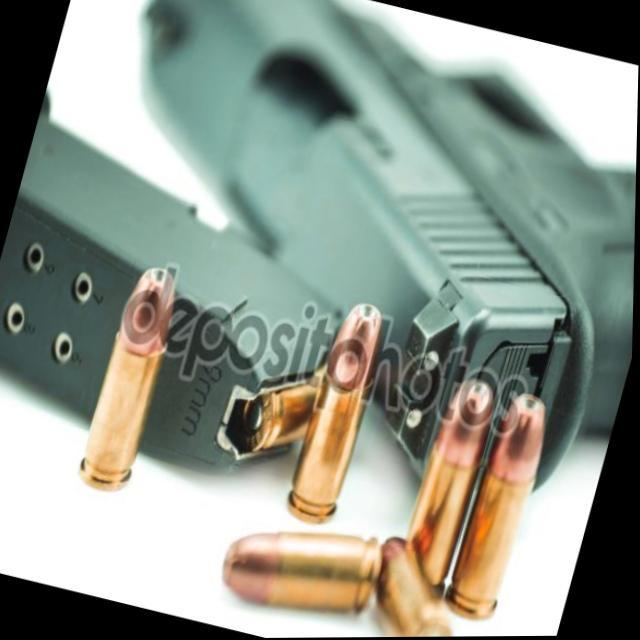weapon: (0, 81, 395, 521)
